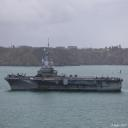Portanaves: (4, 40, 125, 92)
